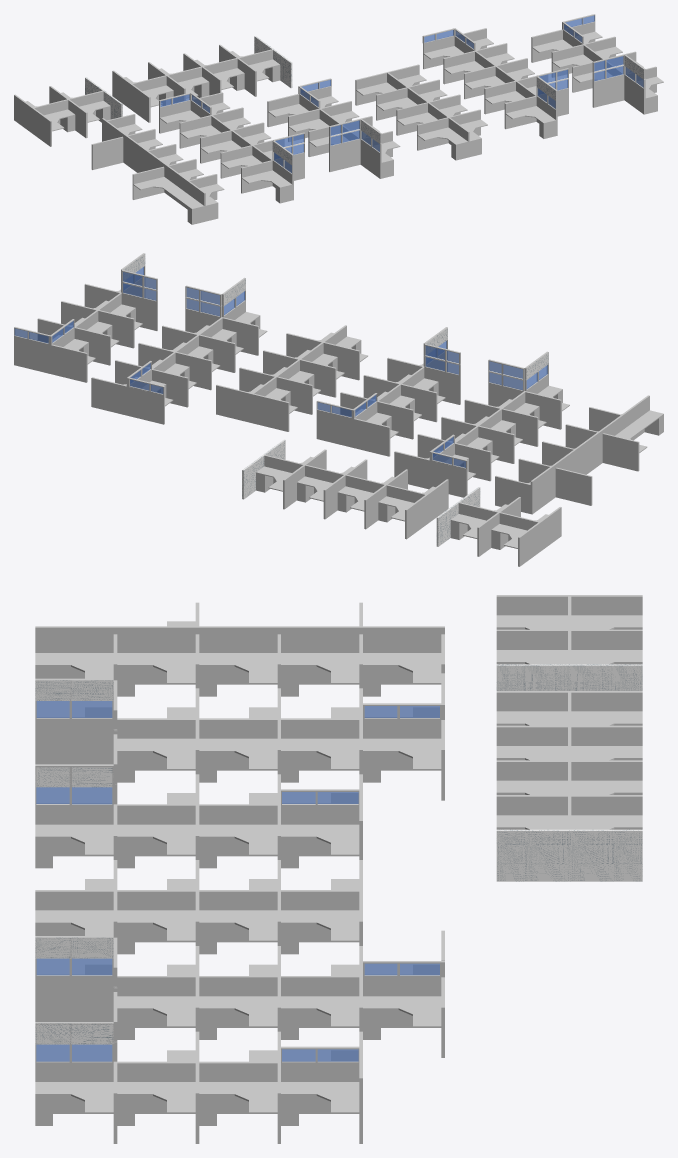
The model's file is intern_purgatory.dae.
3 views of the same model, one above another, from view 1: azimuth 30°, elevation 25°; view 2: azimuth 150°, elevation 25°; view 3: azimuth 270°, elevation 25° (orthographic). The views are drawn at different scales.
Parts seen in each view (by area): view 1: group_3 (×20), group_34 (×3), group_50 (×2), group_38 (×2), group_42 (×2), group_22, group_13, group_16, SketchUp (×2), group_10, group_19; view 2: group_3 (×20), group_38 (×2), group_42 (×2), group_50 (×2), group_34 (×2), group_13, group_22, group_10, SketchUp (×2), group_16, group_19; view 3: group_3 (×20), SketchUp (×2), group_34 (×2), group_42 (×2), group_38 (×2), group_50 (×2), group_13, group_22, group_19, group_10, group_16, group_53 (×2) (+1 smaller).
Part boxes in pixels (left/top/right/bottom): group_3 (×20): left=14, top=36, right=643, bottom=178; group_34 (×3): left=329, top=54, right=663, bottom=178; group_50 (×2): left=241, top=68, right=568, bottom=203; group_38 (×2): left=267, top=21, right=602, bottom=127; group_42 (×2): left=159, top=28, right=493, bottom=133; group_22: left=91, top=129, right=162, bottom=172; group_13: left=132, top=159, right=203, bottom=206; group_16: left=171, top=174, right=224, bottom=224; SketchUp (×2): left=85, top=36, right=292, bottom=119; group_10: left=102, top=114, right=142, bottom=141; group_19: left=143, top=144, right=183, bottom=171; group_3 (×20): left=37, top=293, right=561, bottom=566; group_38 (×2): left=14, top=328, right=398, bottom=456; group_42 (×2): left=91, top=370, right=475, bottom=497; group_50 (×2): left=185, top=277, right=569, bottom=429; group_34 (×2): left=84, top=253, right=460, bottom=404; group_13: left=565, top=412, right=647, bottom=471; group_22: left=518, top=447, right=592, bottom=505; group_10: left=495, top=464, right=555, bottom=514; SketchUp (×2): left=242, top=439, right=480, bottom=546; group_16: left=589, top=395, right=663, bottom=440; group_19: left=542, top=430, right=602, bottom=474; group_3 (×20): left=35, top=595, right=642, bottom=1143; SketchUp (×2): left=496, top=664, right=642, bottom=881; group_34 (×2): left=35, top=734, right=117, bottom=1143; group_42 (×2): left=363, top=703, right=444, bottom=1057; group_38 (×2): left=281, top=774, right=362, bottom=1143; group_50 (×2): left=35, top=678, right=117, bottom=1021; group_13: left=117, top=602, right=199, bottom=696; group_22: left=281, top=602, right=362, bottom=696; group_19: left=199, top=626, right=280, bottom=696; group_10: left=363, top=626, right=444, bottom=696; group_16: left=35, top=626, right=117, bottom=680; group_53 (×2): left=35, top=937, right=113, bottom=1044.
Size of the model in its own units: 993 by 512 by 84.
